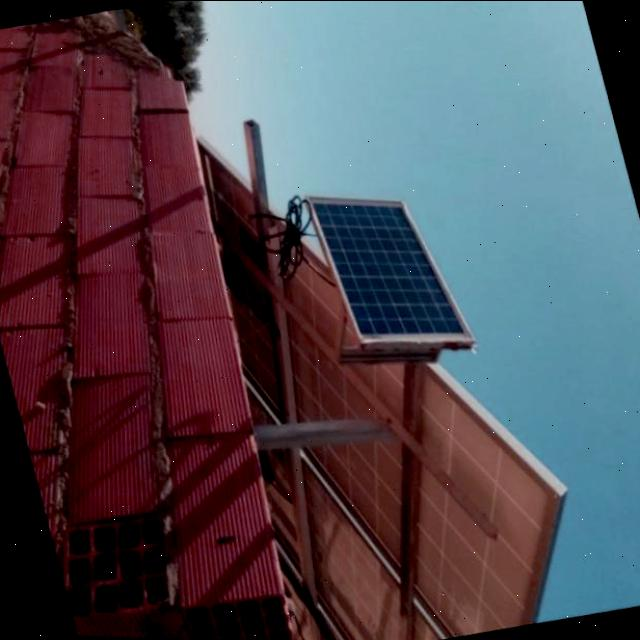Normal Solar Panel: (306, 173, 470, 366)
